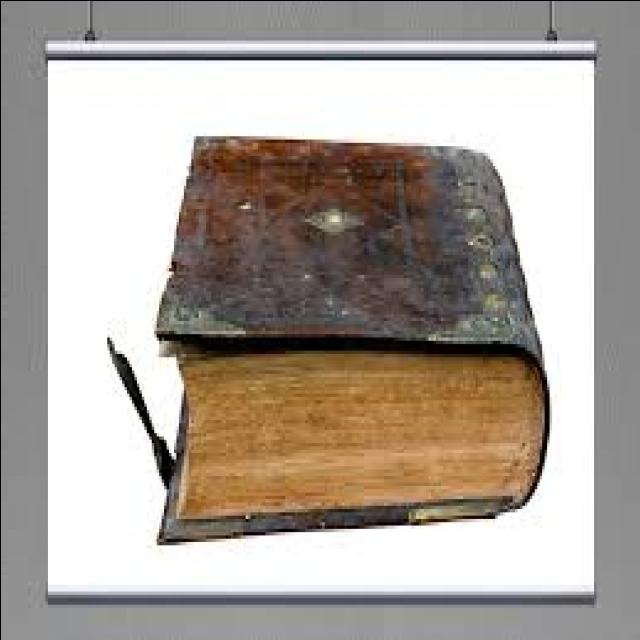book: (88, 123, 558, 587)
